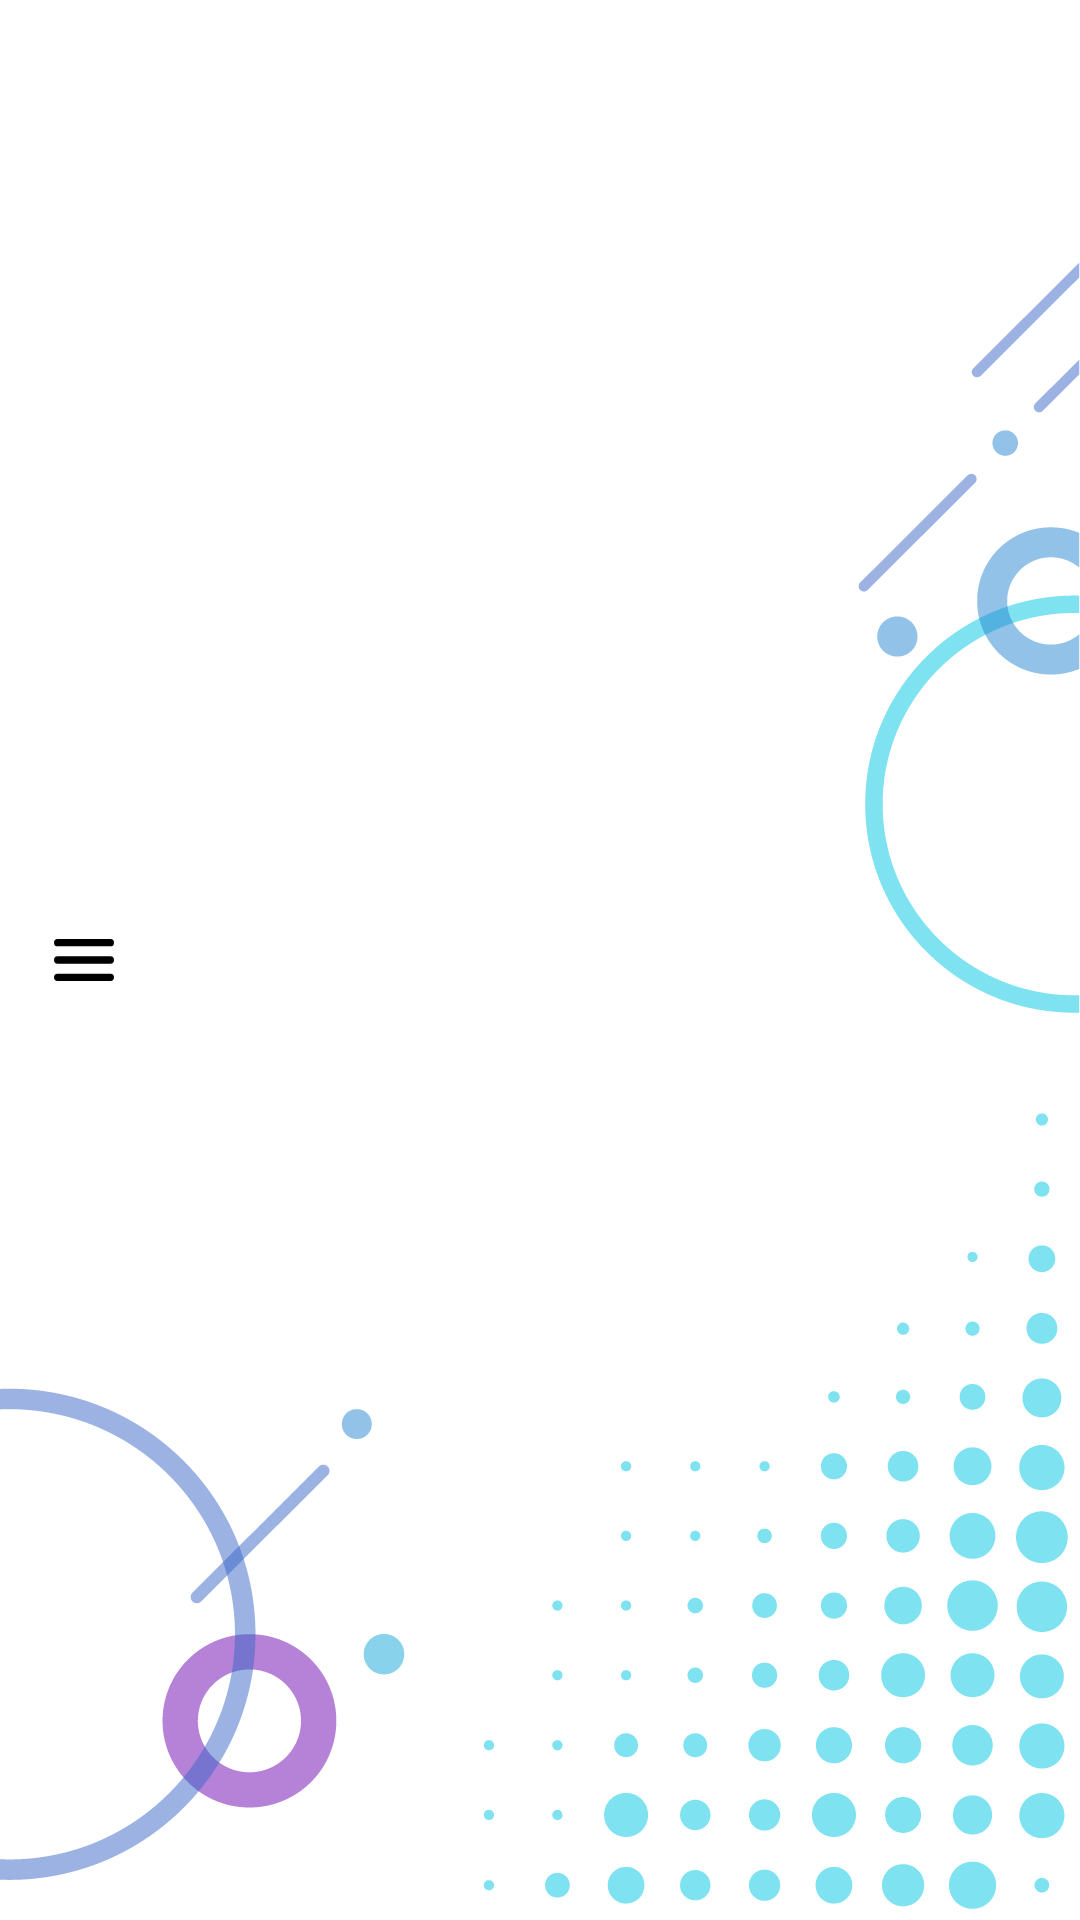

Icon click points for this 1080×1920 phone screenshot, format point (x, y):
menu: point (84, 960)
